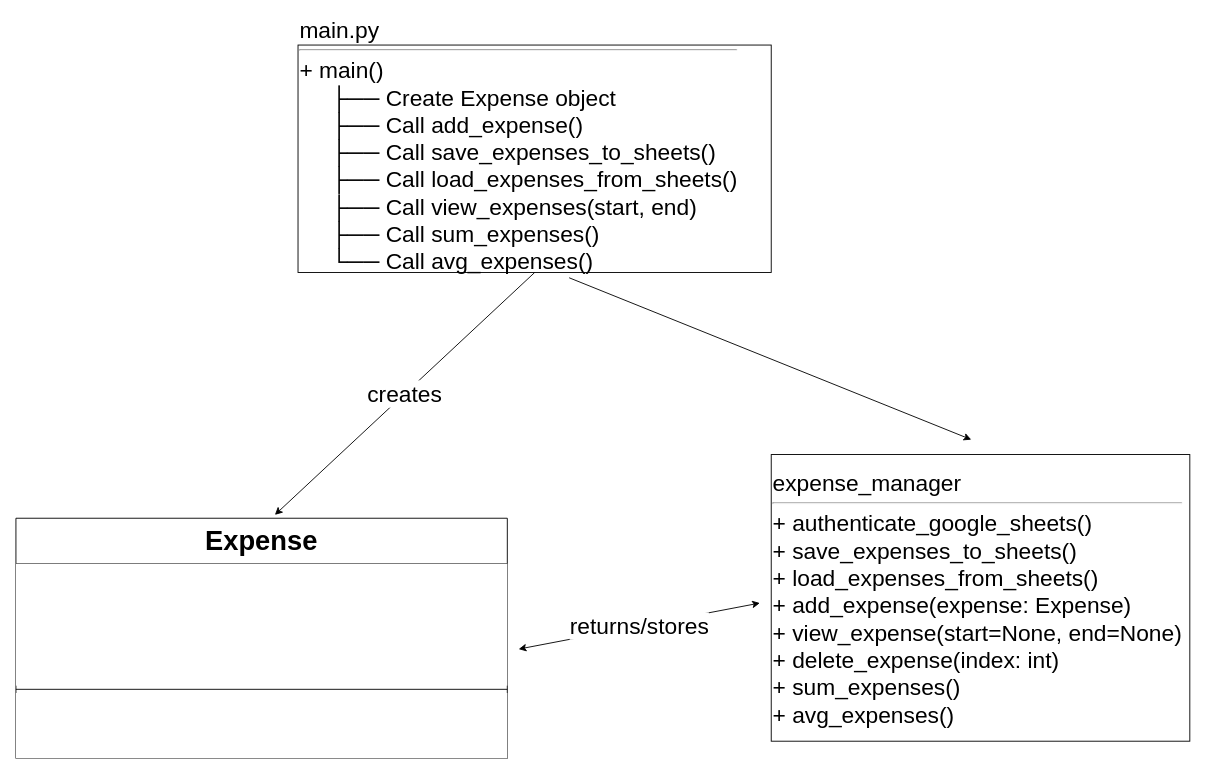
Some shapes in this 1206 by 776 pixel diagram are drawn without their labels. Each missing label, with the centre of its shape:
"+ __init__() + __str__()" belongs at (261,725).
"+ amount: float + date: str + category: str + description: str" belongs at (261,624).
